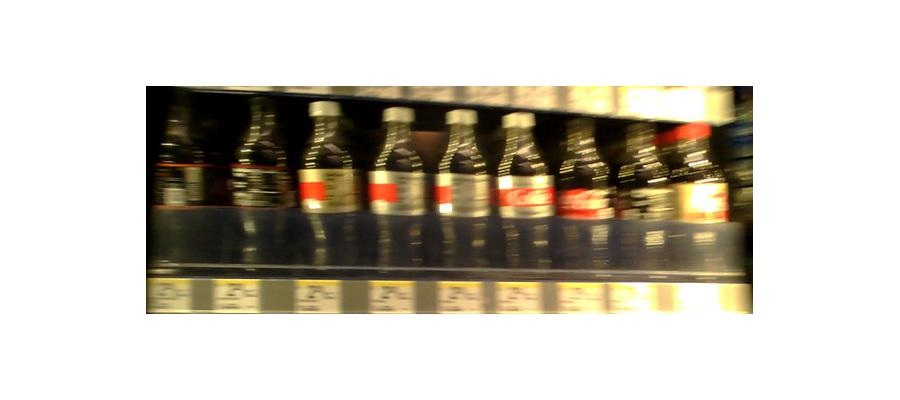bottle: (232, 99, 298, 271), (301, 98, 364, 270), (370, 100, 429, 275), (435, 105, 495, 270), (497, 106, 553, 271), (672, 121, 725, 263), (559, 129, 610, 272)
